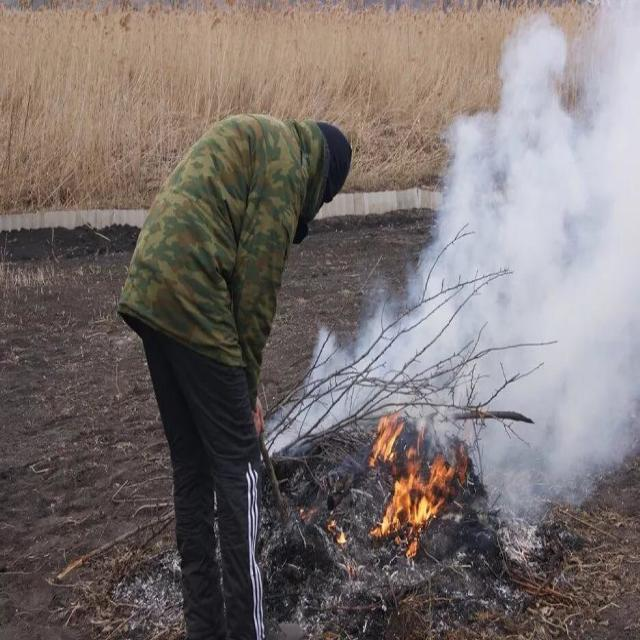Fire: (367, 415, 469, 558)
Smoke: (262, 0, 640, 532)
